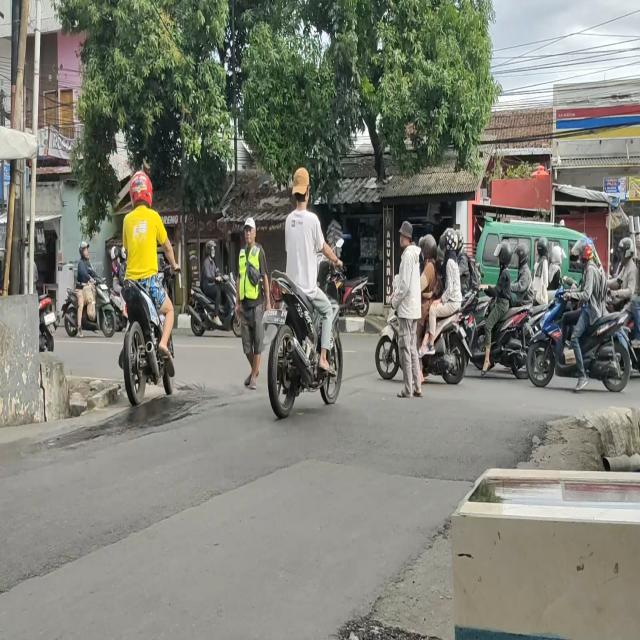helmet: (130, 171, 151, 204), (420, 233, 435, 261), (581, 237, 594, 263), (498, 241, 511, 267), (621, 238, 635, 262), (516, 242, 529, 265), (443, 229, 457, 250), (551, 247, 564, 267), (537, 238, 549, 258), (206, 241, 216, 257), (109, 245, 117, 261), (79, 243, 88, 257)
no-helmet: (436, 258, 443, 275)
